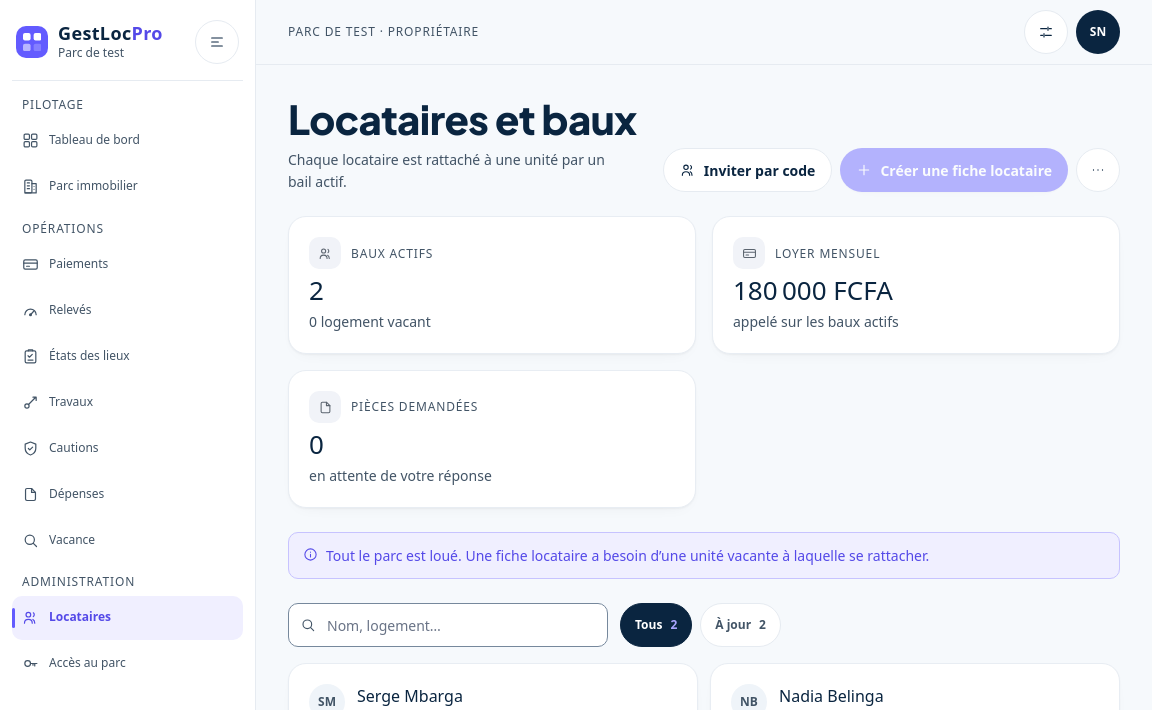
Test: prévenir les locataires › borne l’envoi à l’immeuble choisi
Click the button named "Autres actions": (1098, 170) 1076,148 -> 1120,192
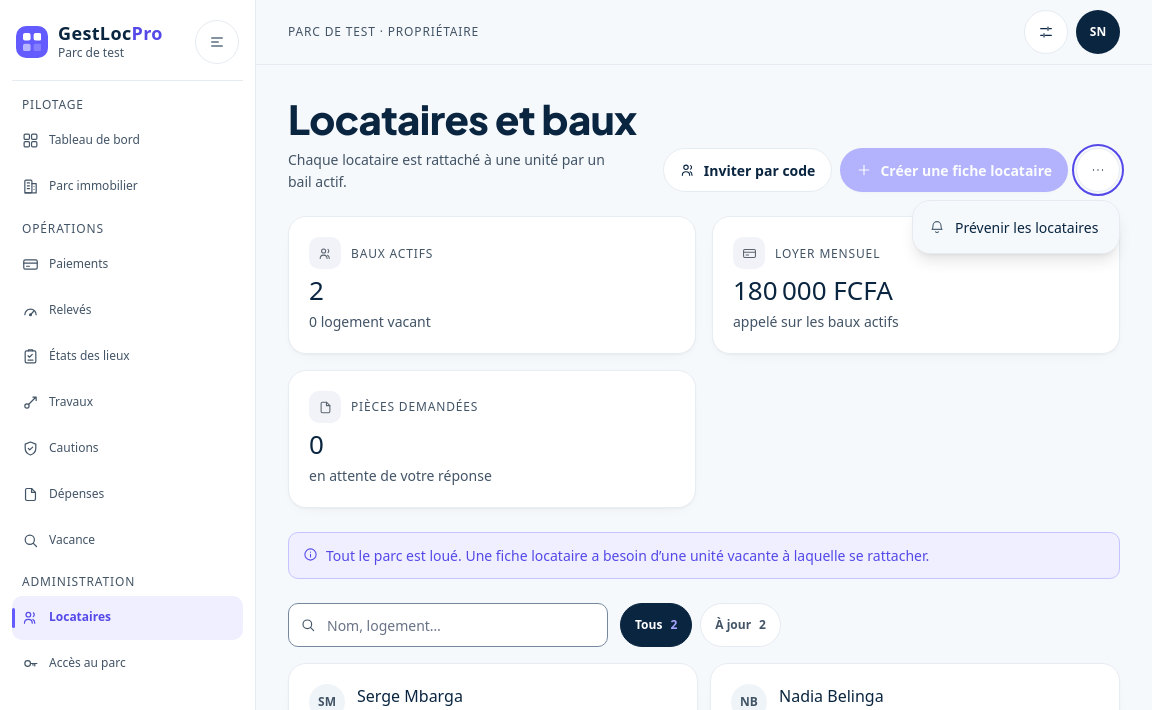
Click the menu item "Prévenir les locataires": (1016, 227) 917,205 -> 1115,249
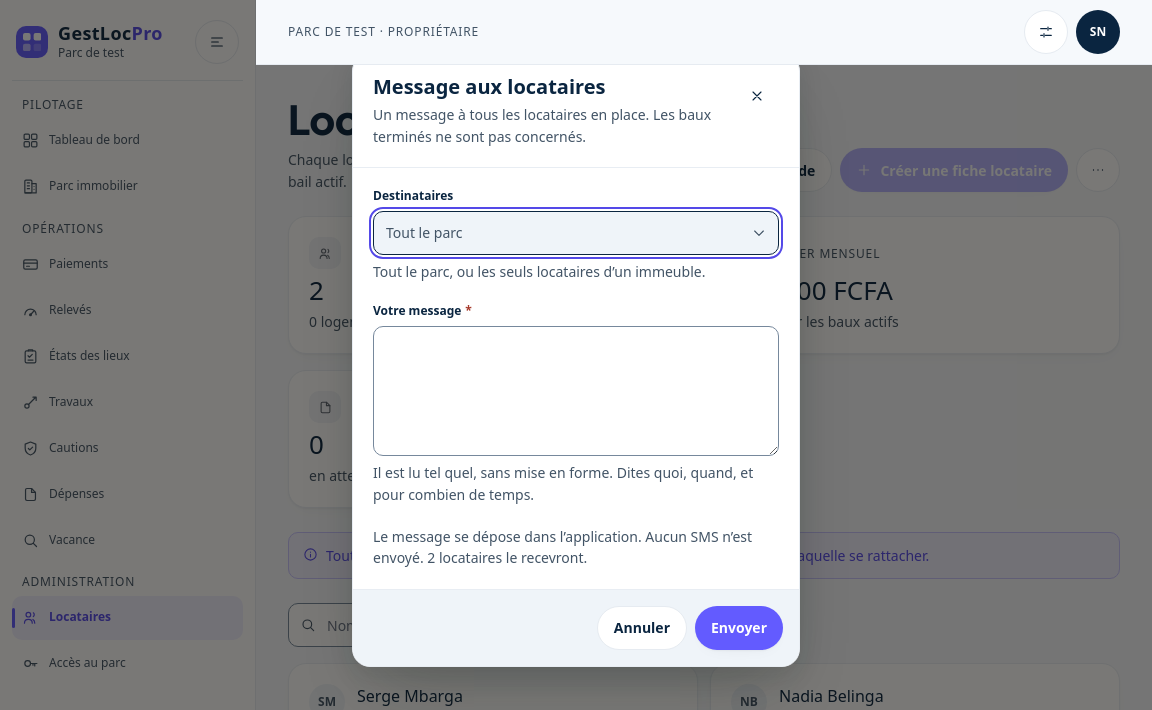
Select "Immeuble Akwa Nord" in the dropdown: (576, 233) 373,211 -> 779,255
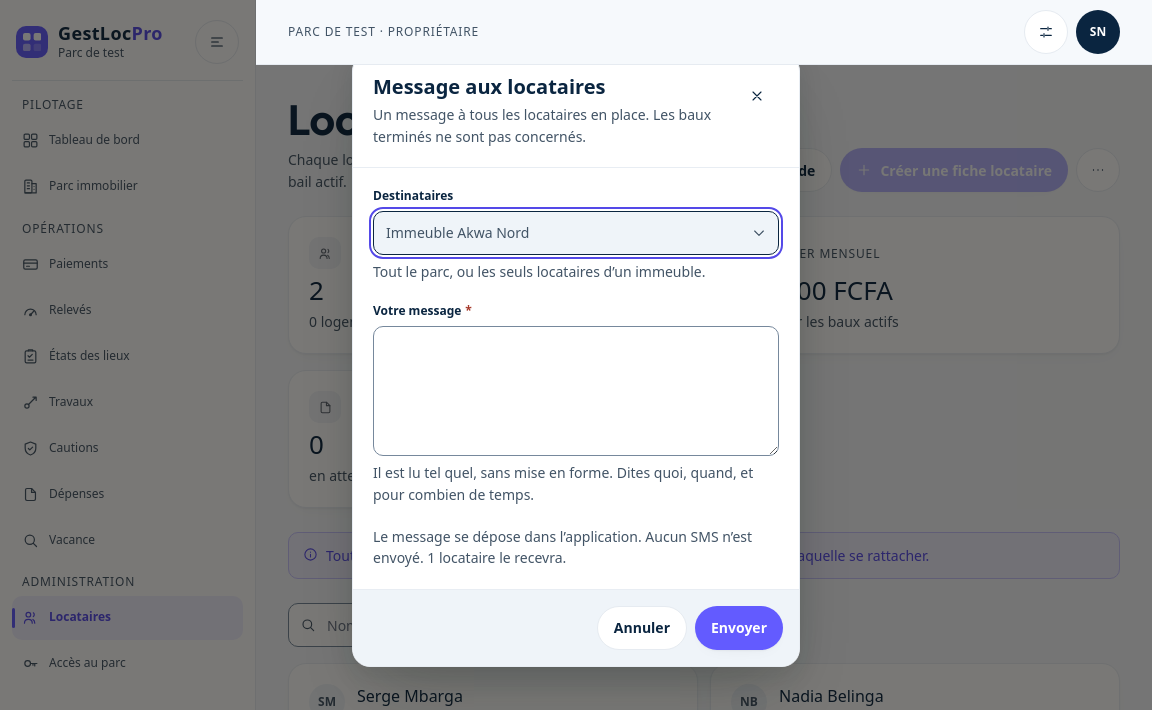
In the text box: (576, 391) 373,326 -> 779,456, type "L’ascenseur est à l’arrêt."
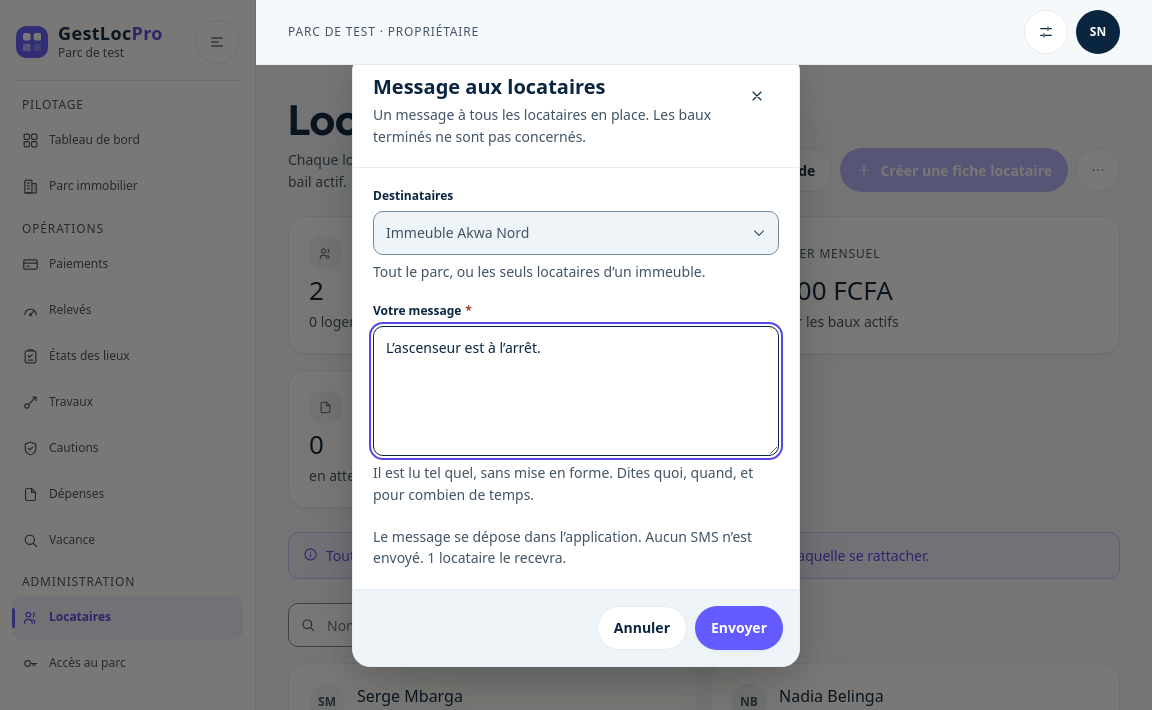
Click the button "Envoyer": (739, 628) 695,606 -> 783,650
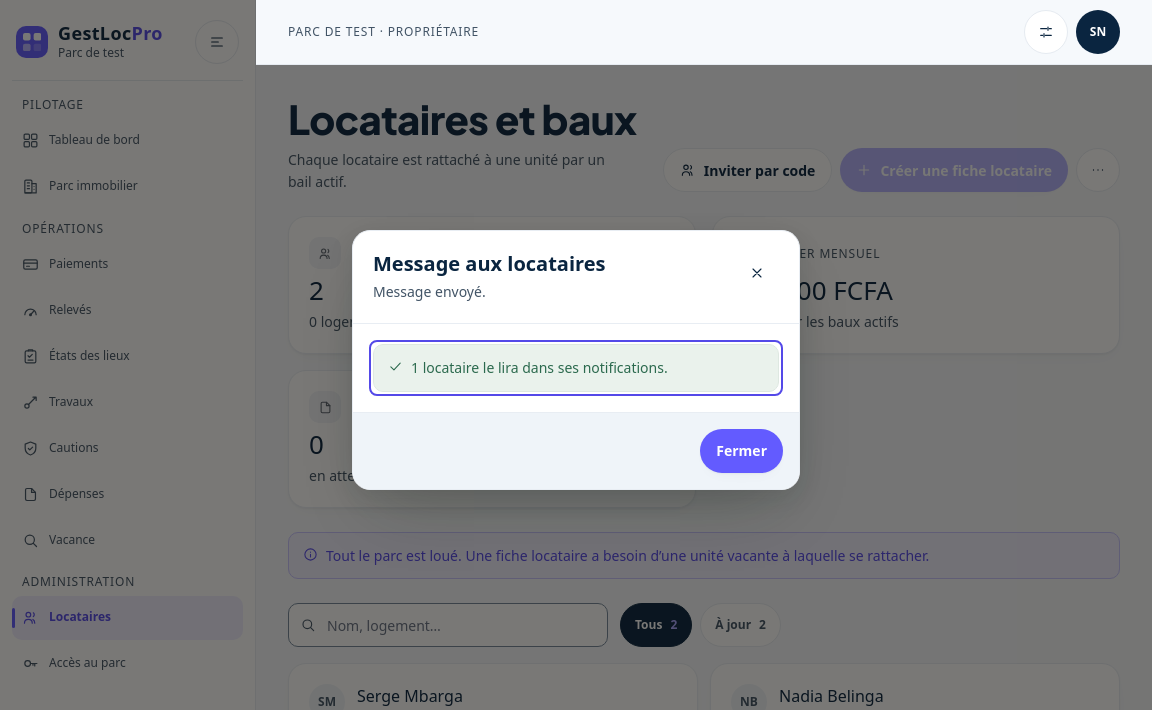
Check: the text "1 locataire le lira dans ses notifications." is shown, box 411,357 -> 668,379
